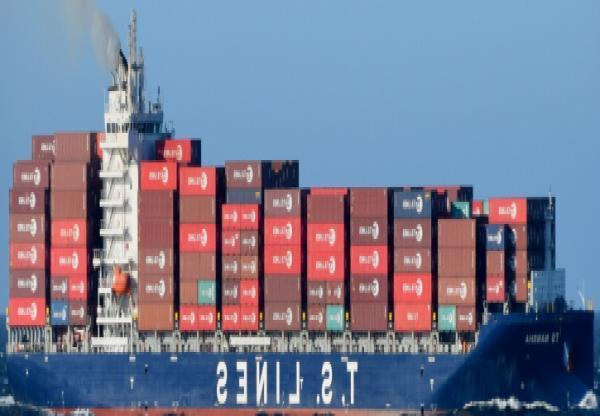Container Ship: (4, 7, 597, 414)
